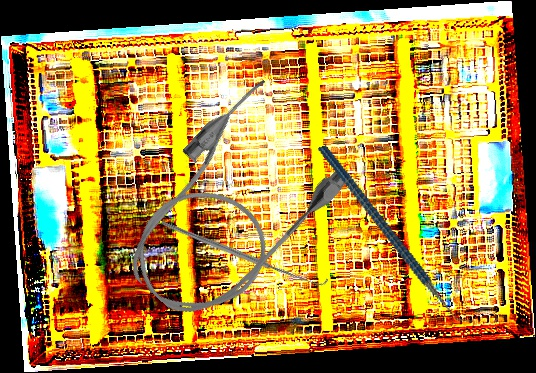Cannula: (98, 71, 361, 341)
Chopper: (317, 117, 477, 353)
Hook Surgical: (159, 162, 330, 342)
